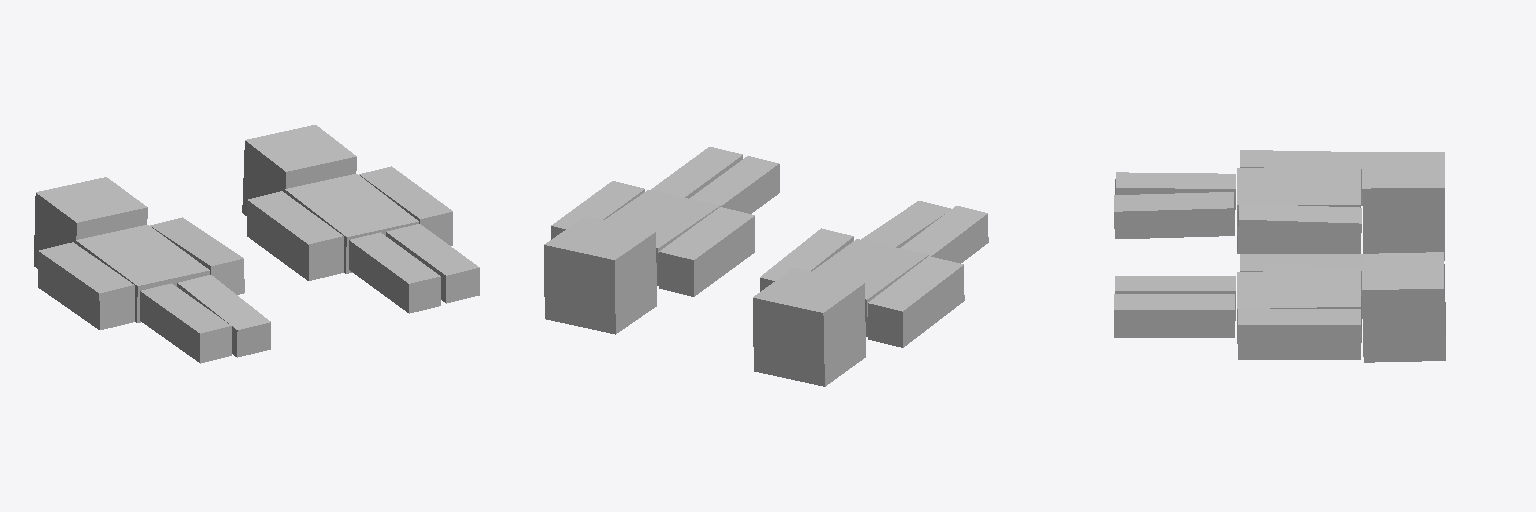
Rendered from steve_000002.obj.
3 renders of one model, left to right at view 1: azimuth 30°, elevation 25°; view 2: azimuth 150°, elevation 25°; view 3: azimuth 270°, elevation 25°, orthographic.
Visible parts, largest first — view 1: Cube.001_Cube.002, Cube_Cube.001; view 2: Cube_Cube.001, Cube.001_Cube.002; view 3: Cube.001_Cube.002, Cube_Cube.001.
Boxes of the visible parts, box(x1,y1,x2,y2) form: Cube.001_Cube.002: box(242, 125, 479, 313); Cube_Cube.001: box(34, 177, 270, 363); Cube_Cube.001: box(753, 201, 988, 386); Cube.001_Cube.002: box(544, 147, 779, 334); Cube.001_Cube.002: box(1114, 252, 1445, 362); Cube_Cube.001: box(1114, 150, 1444, 260).
Size of the model in its own units: 6.55 by 1.37 by 5.35.